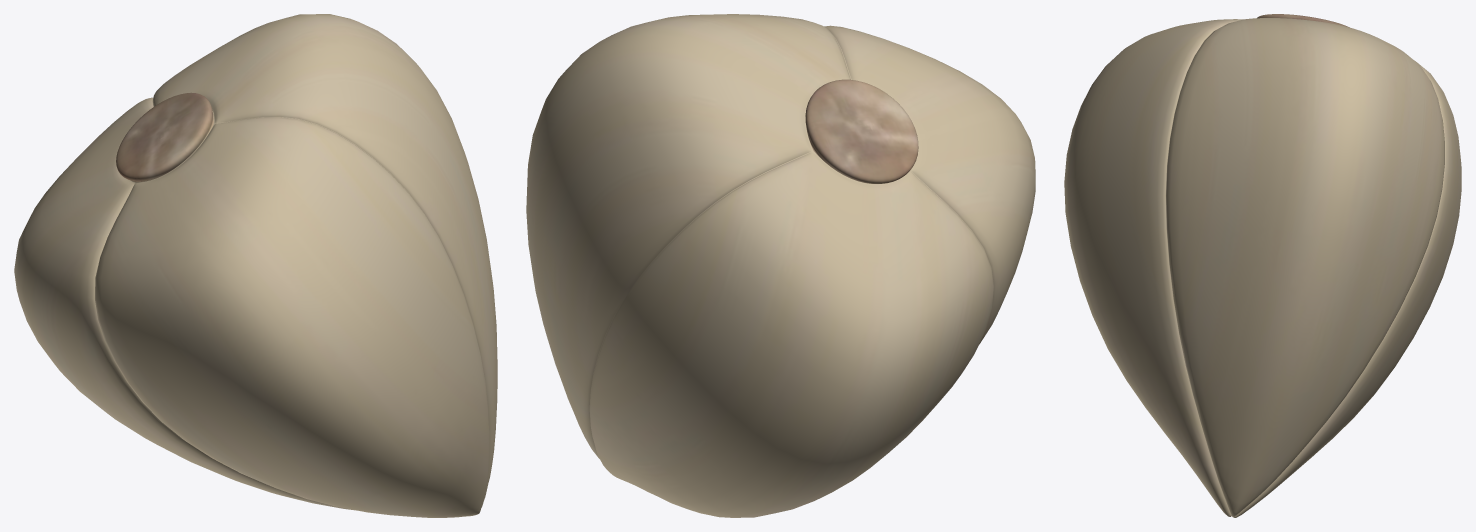
The model's file is GrainBuckwheat020.obj.
The picture shows the model from 3 angles, left to right: view 1: azimuth 30°, elevation 25°; view 2: azimuth 150°, elevation 25°; view 3: azimuth 270°, elevation 25°; orthographic projection. The views are drawn at different scales.
Visible parts, largest first — view 1: GrainBuckwheat020; view 2: GrainBuckwheat020; view 3: GrainBuckwheat020.
Part boxes in pixels (x1,y1,x2,y2): GrainBuckwheat020: (14,14,497,517); GrainBuckwheat020: (526,14,1035,517); GrainBuckwheat020: (1064,14,1461,517).
Size of the model in its own units: 0.0269 by 0.0301 by 0.025.
Materials: 1 (1 with a texture image).
